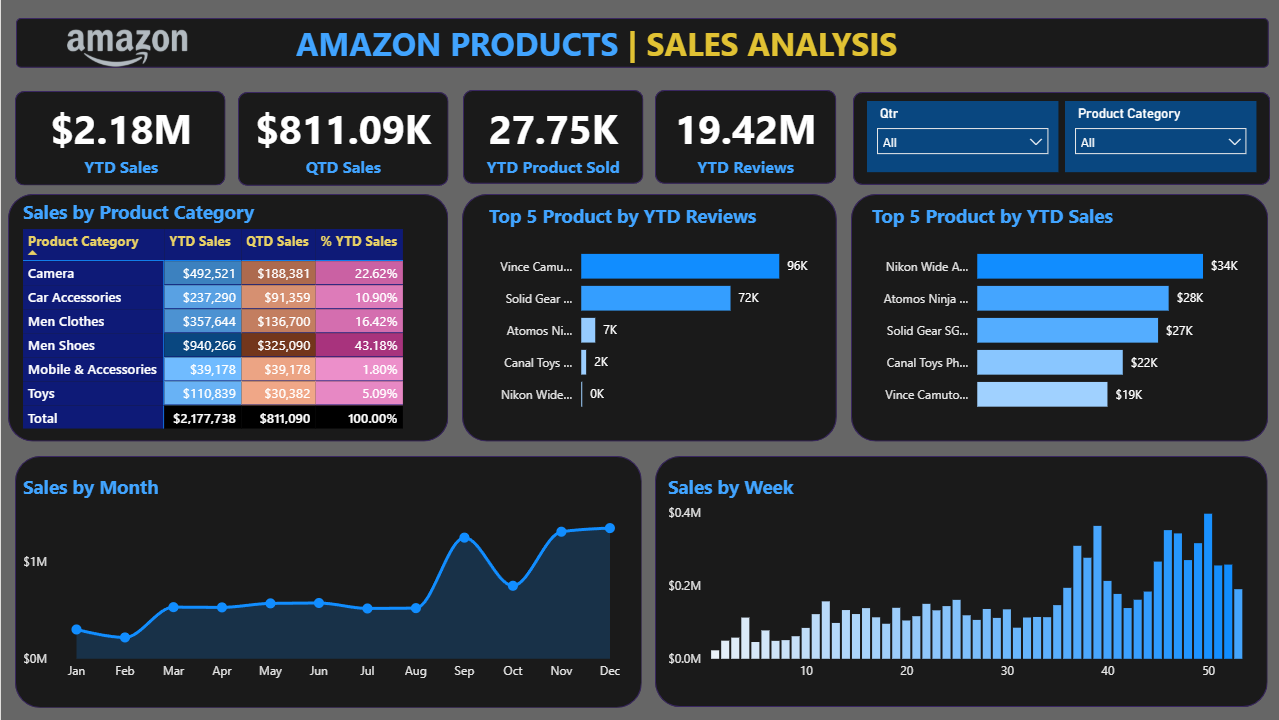

Layout of this report page (visuals, bound fields, positions):
{"tool":"powerbi","page":{"name":"Page 1","canvas":[1280,720],"ordinal":0},"visuals":[{"type":"shape","box":[14.6,20.4,1249.8,49.6],"z":0},{"type":"textbox","box":[288.9,17.5,623.5,55.4],"z":1000},{"type":"shape","box":[850.4,93.5,416.4,92.6],"z":2000},{"type":"shape","box":[14.1,92.6,210,94.4],"z":3000},{"type":"shape","box":[236.4,93.5,210,93.5],"z":4000},{"type":"shape","box":[460.5,91.7,180,93.5],"z":5000},{"type":"shape","box":[652.8,91.7,180.8,93.5],"z":6000},{"type":"card","fields":{"Values":["Amazon_Data.YTD Sales"]},"box":[15,91.7,210,96.2],"z":7000},{"type":"card","fields":{"Values":["Amazon_Data.QTD Sales"]},"box":[236.4,93.5,210,92.6],"z":8000},{"type":"card","fields":{"Values":["Amazon_Data.YTD Product Sold"]},"box":[460.5,93.5,180,92.6],"z":9000},{"type":"card","fields":{"Values":["Amazon_Data.YTD Reviews"]},"box":[652.8,93.5,180.8,92.6],"z":10000},{"type":"shape","box":[14.1,457,625.4,251.4],"z":11000},{"type":"areaChart","title":"Sales by Month","fields":{"Category":["Date Table.Month Name"],"Y":["Sum(Amazon_Data.Price(Dollar))"]},"box":[16.8,474.6,614.9,214.4],"z":12000},{"type":"shape","box":[652.8,457,611.3,250.5],"z":13000},{"type":"columnChart","title":"Sales by Week","fields":{"Category":["Date Table.Week"],"Y":["Sum(Amazon_Data.Price(Dollar))"]},"box":[660.7,474.6,606,214.4],"z":14000},{"type":"shape","box":[7.1,195.5,439.4,246.9],"z":15000},{"type":"pivotTable","title":"Sales by Product Category","fields":{"Rows":["Amazon_Data.Product Category"],"Values":["Amazon_Data.YTD Sales1","Amazon_Data.QTD Sales","Amazon_Data.YTD Sales"]},"box":[17.1,200.6,403.1,237.9],"z":16000},{"type":"shape","box":[847.6,195.5,416.3,246.9],"z":17000},{"type":"shape","box":[459.6,195.5,373.9,246.9],"z":18000},{"type":"clusteredBarChart","title":"Top 5 Product  by YTD Sales","fields":{"Category":["Amazon_Data.Product Description"],"Y":["Amazon_Data.YTD Sales"]},"box":[864.2,204.4,389.1,221.9],"z":19000},{"type":"clusteredBarChart","title":"Top 5 Product  by YTD Reviews","fields":{"Category":["Amazon_Data.Product Description"],"Y":["Amazon_Data.YTD Reviews"]},"box":[481.8,204.6,337.6,221.7],"z":20000},{"type":"slicer","fields":{"Values":["Amazon_Data.Product Category"]},"box":[1061.2,102.3,191.4,71.5],"z":21000},{"type":"slicer","fields":{"Values":["Date Table.Qtr"]},"box":[863.6,102.3,190.5,71.5],"z":22000},{"type":"image","box":[58.5,13.1,133,64.5],"z":23000}]}

Visuals, with their boxes in screenshot pixels (x1, y1, x2, y2), scaled from the page's 1280x720 canvas onto the 1279x720 screenshot:
shape: <region>15, 20, 1263, 70</region>
textbox: <region>289, 18, 912, 73</region>
shape: <region>850, 94, 1266, 186</region>
shape: <region>14, 93, 224, 187</region>
shape: <region>236, 94, 446, 187</region>
shape: <region>460, 92, 640, 185</region>
shape: <region>652, 92, 833, 185</region>
card - Amazon_Data.YTD Sales: <region>15, 92, 225, 188</region>
card - Amazon_Data.QTD Sales: <region>236, 94, 446, 186</region>
card - Amazon_Data.YTD Product Sold: <region>460, 94, 640, 186</region>
card - Amazon_Data.YTD Reviews: <region>652, 94, 833, 186</region>
shape: <region>14, 457, 639, 708</region>
"Sales by Month" areaChart: <region>17, 475, 631, 689</region>
shape: <region>652, 457, 1263, 708</region>
"Sales by Week" columnChart: <region>660, 475, 1266, 689</region>
shape: <region>7, 196, 446, 442</region>
"Sales by Product Category" pivotTable: <region>17, 201, 420, 438</region>
shape: <region>847, 196, 1263, 442</region>
shape: <region>459, 196, 833, 442</region>
"Top 5 Product  by YTD Sales" clusteredBarChart: <region>864, 204, 1252, 426</region>
"Top 5 Product  by YTD Reviews" clusteredBarChart: <region>481, 205, 819, 426</region>
slicer - Amazon_Data.Product Category: <region>1060, 102, 1252, 174</region>
slicer - Date Table.Qtr: <region>863, 102, 1053, 174</region>
image: <region>58, 13, 191, 78</region>
